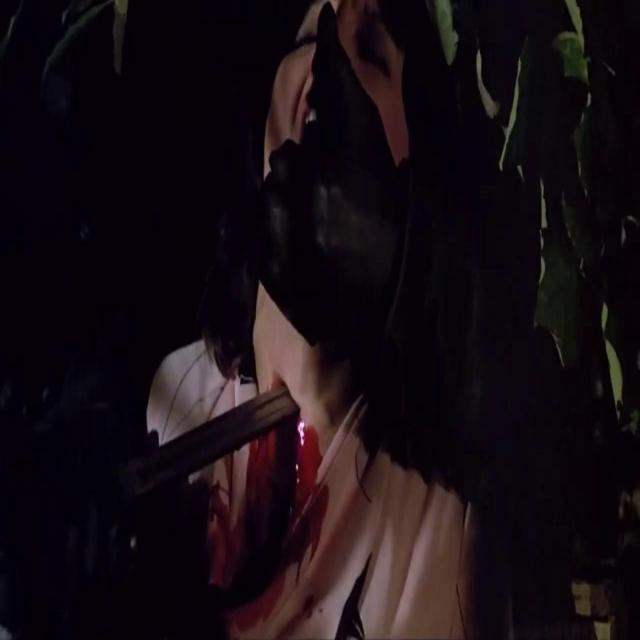flood: (211, 364, 333, 586)
